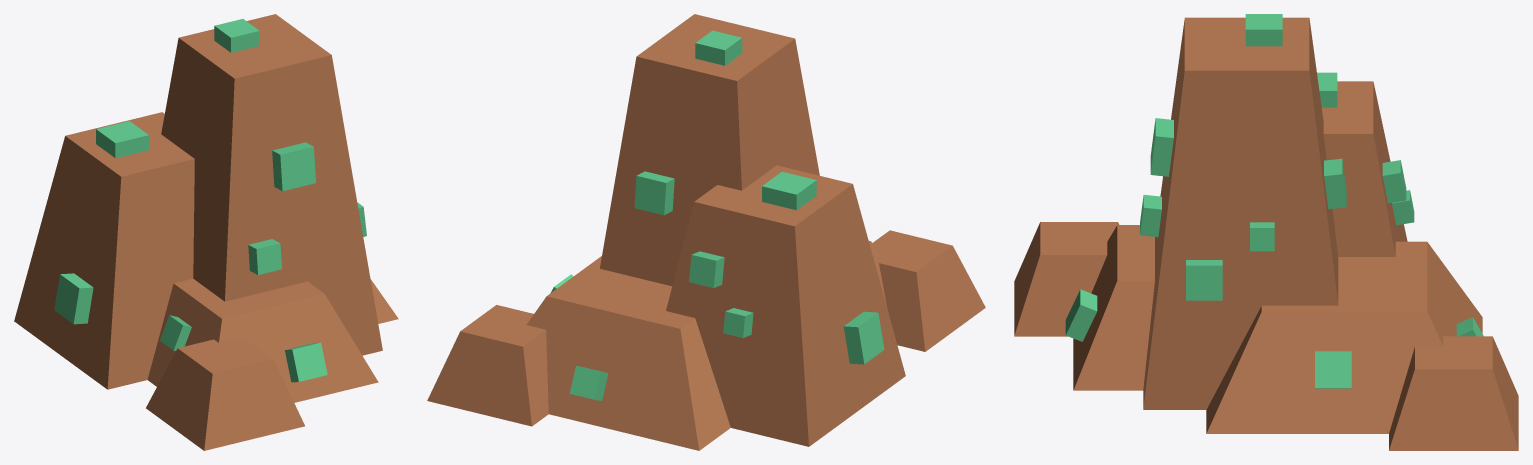
File: rocksTallOre.fbx
3 renders of one model, left to right at view 1: azimuth 30°, elevation 25°; view 2: azimuth 150°, elevation 25°; view 3: azimuth 270°, elevation 25°, orthographic. The views are drawn at different scales.
Parts seen in each view (by area): view 1: rocksTallOre; view 2: rocksTallOre; view 3: rocksTallOre.
Part boxes in pixels (<box>): rocksTallOre: <box>14,14,398,450</box>; rocksTallOre: <box>427,14,985,450</box>; rocksTallOre: <box>1014,14,1518,450</box>.
Bounding box in the file's own units: 6.86 × 6.08 × 8.21.
